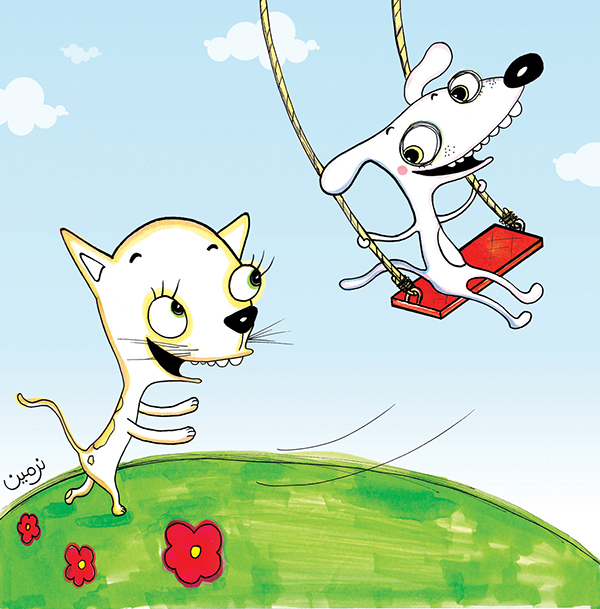cat: (14, 203, 289, 514)
dog: (315, 39, 577, 329)
